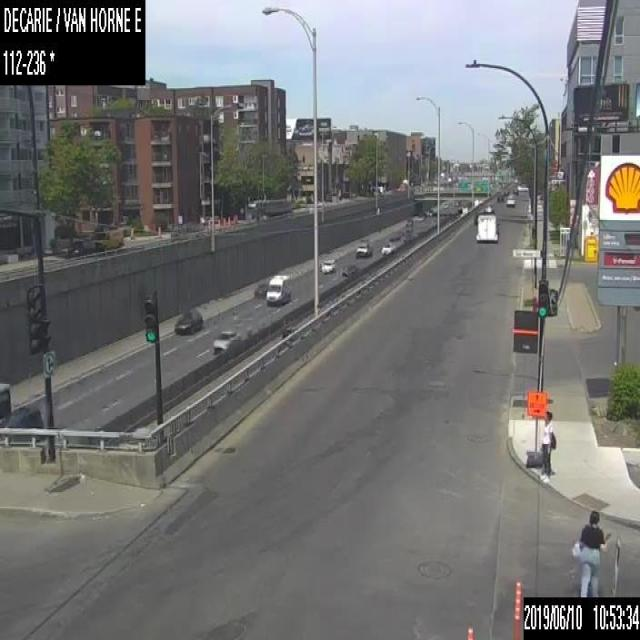construction: (527, 390, 546, 466), (512, 580, 522, 638), (466, 620, 474, 638)
pedestrian: (570, 507, 612, 596), (538, 408, 557, 483)
vehicle: (90, 222, 122, 251), (2, 406, 42, 428), (173, 306, 202, 334), (266, 274, 291, 306), (474, 212, 498, 242), (211, 328, 240, 352), (64, 238, 94, 256), (0, 380, 11, 428), (341, 261, 359, 276), (355, 242, 371, 257), (321, 258, 334, 273), (254, 280, 266, 296), (381, 242, 394, 254), (282, 326, 294, 338), (484, 202, 493, 212), (506, 196, 514, 207), (497, 192, 502, 200), (512, 187, 518, 193), (503, 189, 508, 194)
